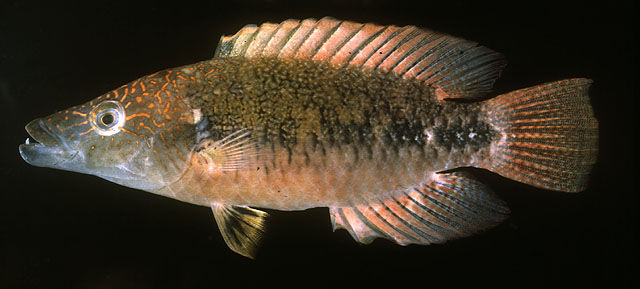fish: (20, 17, 600, 259)
